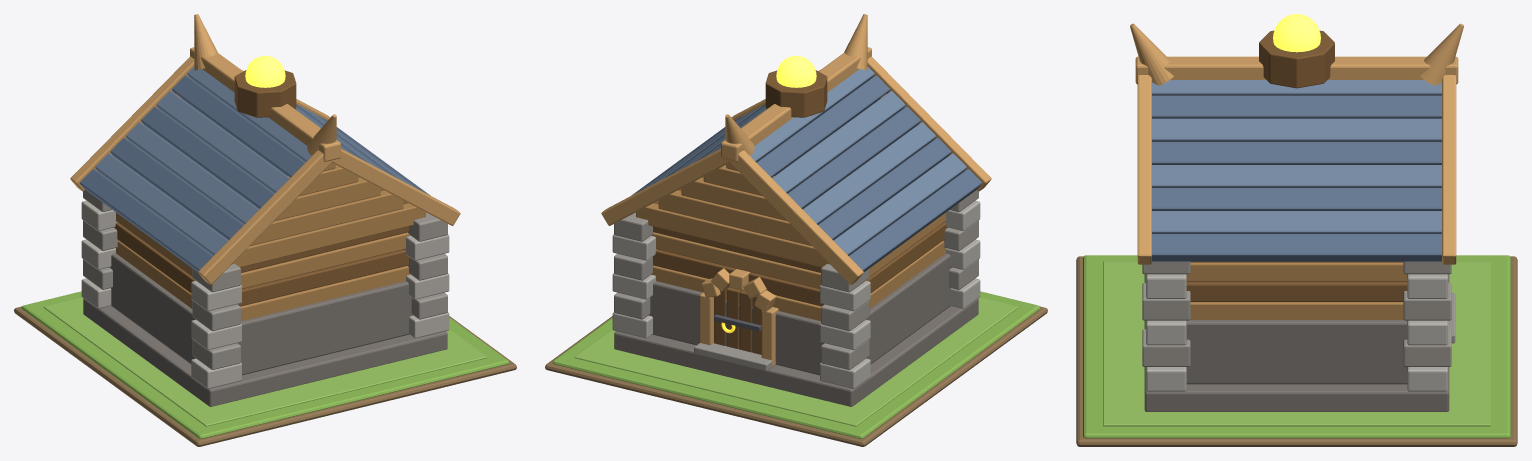
The model's file is builder_hall_lv3.glb.
The picture shows the model from 3 angles, left to right: view 1: azimuth 30°, elevation 25°; view 2: azimuth 150°, elevation 25°; view 3: azimuth 270°, elevation 25°; orthographic projection. The views are drawn at different scales.
Visible parts, largest first — view 1: BH_SlateWainscot, Base_Inner, BH_Foundation, Base_Grass, Base_Dirt, WallPlank_4, WallPlank_3, Gable_-1_0, WallPlank_5, RoofSlope_-1_7, Bargeboard_-1_-1, RoofSlope_-1_3 (+34 smaller); view 2: BH_SlateWainscot, Base_Inner, BH_Foundation, Base_Grass, Base_Dirt, WallPlank_4, Gable_1_0, WallPlank_5, RoofSlope_-1_7, Bargeboard_1_-1, RoofSlope_-1_3, RoofSlope_-1_4 (+40 smaller); view 3: Base_Inner, BH_SlateWainscot, Base_Grass, BH_Foundation, RoofSlope_1_7, RoofSlope_1_1, RoofSlope_1_2, RoofSlope_1_3, RoofSlope_1_4, RoofSlope_1_5, RoofSlope_1_6, Base_Dirt (+23 smaller).
Part boxes in pixels (x1,y1,x2,y2): BH_SlateWainscot: (109, 253, 413, 375); Base_Inner: (43, 297, 487, 426); BH_Foundation: (83, 298, 447, 406); Base_Grass: (21, 291, 509, 438); Base_Dirt: (14, 306, 516, 446); WallPlank_4: (114, 223, 408, 306); WallPlank_3: (116, 241, 410, 321); Gable_-1_0: (232, 203, 425, 267); WallPlank_5: (116, 212, 410, 288); RoofSlope_-1_7: (79, 169, 212, 271); Bargeboard_-1_-1: (198, 150, 332, 284); RoofSlope_-1_3: (141, 106, 274, 208); BH_SlateWainscot: (648, 253, 952, 375); Base_Inner: (574, 297, 1018, 426); BH_Foundation: (614, 298, 978, 406); Base_Grass: (552, 291, 1040, 438); Base_Dirt: (545, 306, 1047, 446); WallPlank_4: (653, 223, 947, 306); Gable_1_0: (636, 203, 829, 267); WallPlank_5: (651, 212, 945, 288); RoofSlope_-1_7: (849, 169, 982, 271); Bargeboard_1_-1: (728, 150, 863, 284); RoofSlope_-1_3: (787, 106, 920, 208); RoofSlope_-1_4: (802, 122, 936, 224); Base_Inner: (1103, 261, 1490, 426); BH_SlateWainscot: (1186, 320, 1407, 384); Base_Grass: (1083, 255, 1510, 438); BH_Foundation: (1144, 274, 1449, 411); RoofSlope_1_7: (1152, 234, 1441, 261); RoofSlope_1_1: (1152, 95, 1441, 118); RoofSlope_1_2: (1152, 118, 1441, 141); RoofSlope_1_3: (1152, 142, 1441, 164); RoofSlope_1_4: (1152, 165, 1441, 187); RoofSlope_1_5: (1152, 188, 1441, 210); RoofSlope_1_6: (1152, 211, 1441, 233); Base_Dirt: (1076, 256, 1517, 446).
Size of the model in its own units: 3.68 by 3.12 by 3.68.
